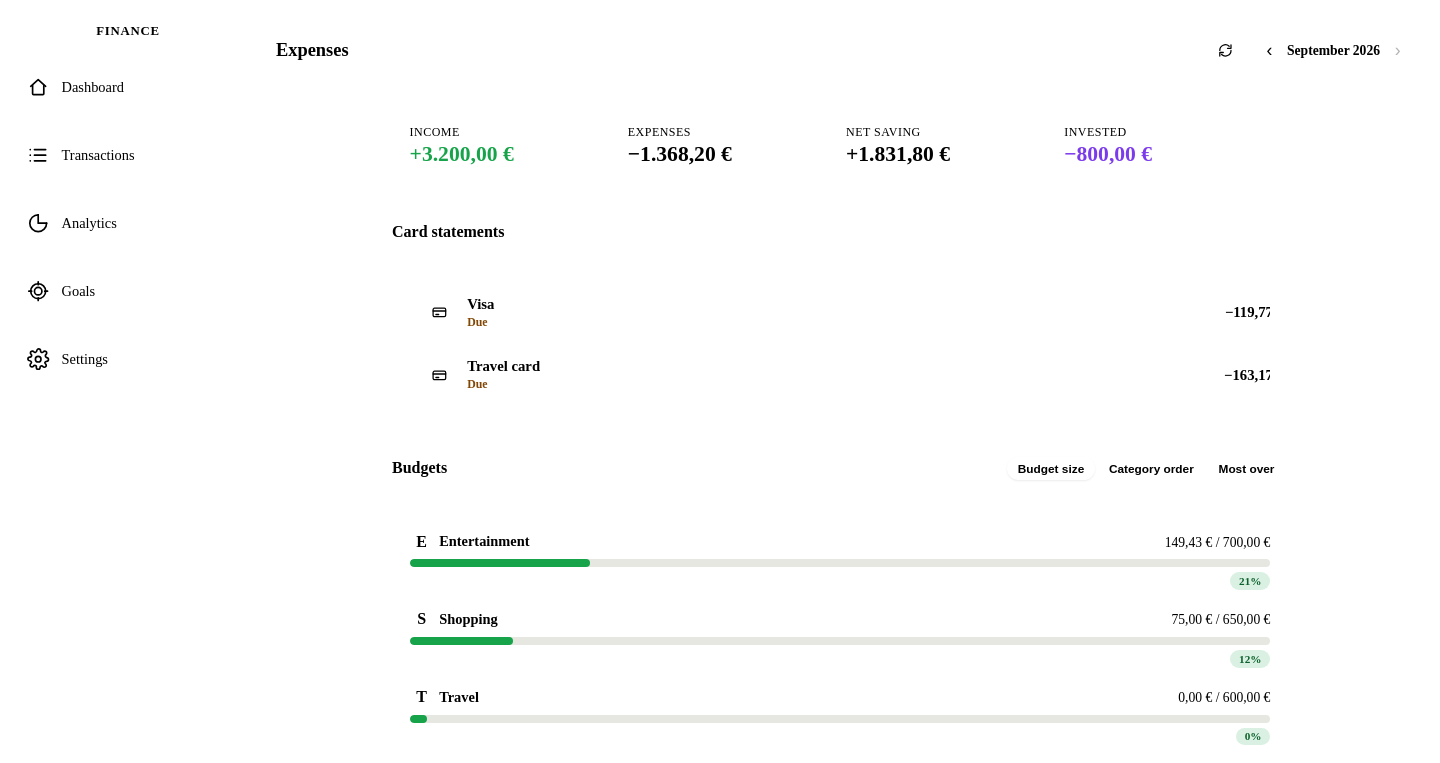
Test: LedgerExpensesApp, the Transactions tab › lists the month from a page read from the server, with its count and net spend, not from the rows it holds
The image size is (1440, 763).
What coordinates should you click on to do the following:
click the button "Transactions"
I would click on:
 (128, 155)
Its box is [16, 123, 240, 187].
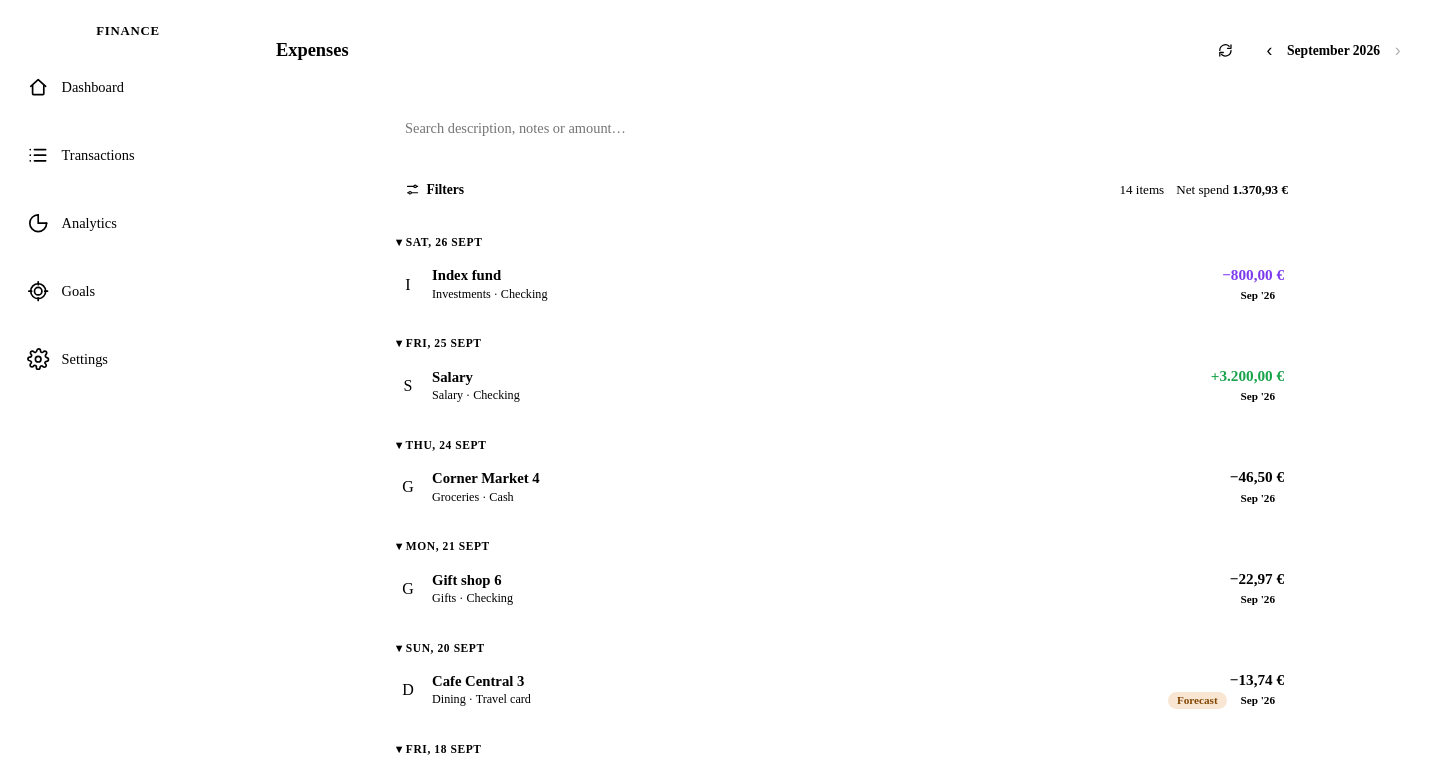
expect the text "14 items" is shown: met, box [1119, 182, 1164, 198]
